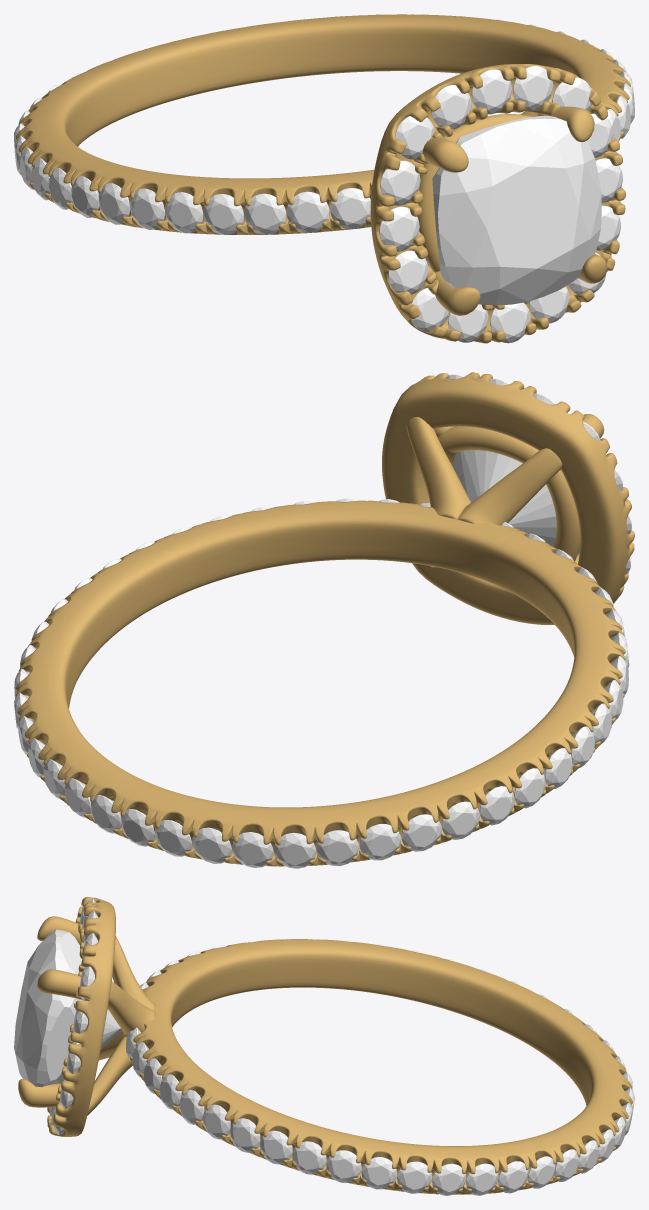
Rendered from ring-model.glb.
The picture shows the model from 3 angles, top to bottom: view 1: azimuth 30°, elevation 25°; view 2: azimuth 150°, elevation 25°; view 3: azimuth 270°, elevation 25°; orthographic projection. The views are drawn at different scales.
Parts seen in each view (by area): view 1: alliance, ring-compare, entourage, dia041, dia042, dia040, diamond_side_cuchion_008, diamond_side_cuchion_013, diamond_side_cuchion_014, diamond_side_cuchion_009, diamond_side_cuchion_010, diamond_side_cuchion_012 (+16 smaller); view 2: alliance, entourage, ring-compare, dia027, dia028, dia026, dia029, dia025, dia030, dia024, dia031, dia023 (+6 smaller); view 3: alliance, entourage, ring-compare, dia012, dia011, dia010, dia013, dia009, dia014, dia008, dia015, dia007 (+7 smaller).
Boxes of the visible parts, bbox=[...] form: alliance: bbox=[15, 14, 631, 234]; ring-compare: bbox=[432, 115, 601, 305]; entourage: bbox=[370, 64, 625, 343]; dia041: bbox=[287, 191, 329, 232]; dia042: bbox=[330, 188, 370, 229]; dia040: bbox=[244, 193, 286, 234]; diamond_side_cuchion_008: bbox=[513, 66, 553, 110]; diamond_side_cuchion_013: bbox=[379, 206, 419, 251]; diamond_side_cuchion_014: bbox=[388, 250, 428, 294]; diamond_side_cuchion_009: bbox=[471, 69, 511, 114]; diamond_side_cuchion_010: bbox=[431, 85, 471, 129]; diamond_side_cuchion_012: bbox=[380, 160, 420, 205]; alliance: bbox=[15, 500, 625, 866]; entourage: bbox=[382, 372, 634, 624]; ring-compare: bbox=[452, 426, 580, 554]; dia027: bbox=[316, 830, 358, 866]; dia028: bbox=[359, 824, 400, 860]; dia026: bbox=[274, 832, 316, 868]; dia029: bbox=[401, 814, 441, 851]; dia025: bbox=[232, 832, 273, 867]; dia030: bbox=[441, 801, 479, 839]; dia024: bbox=[192, 827, 231, 863]; dia031: bbox=[479, 786, 514, 825]; dia023: bbox=[154, 820, 191, 856]; alliance: bbox=[130, 939, 632, 1194]; entourage: bbox=[18, 897, 155, 1136]; ring-compare: bbox=[14, 929, 121, 1087]; dia012: bbox=[361, 1157, 396, 1189]; dia011: bbox=[326, 1150, 361, 1182]; dia010: bbox=[292, 1141, 326, 1174]; dia013: bbox=[397, 1161, 432, 1193]; dia009: bbox=[260, 1130, 292, 1164]; dia014: bbox=[432, 1163, 466, 1195]; dia008: bbox=[230, 1118, 260, 1152]; dia015: bbox=[466, 1163, 498, 1195]; dia007: bbox=[203, 1104, 230, 1139].
Size of the model in its own units: 2.45 by 1.11 by 2.96.
